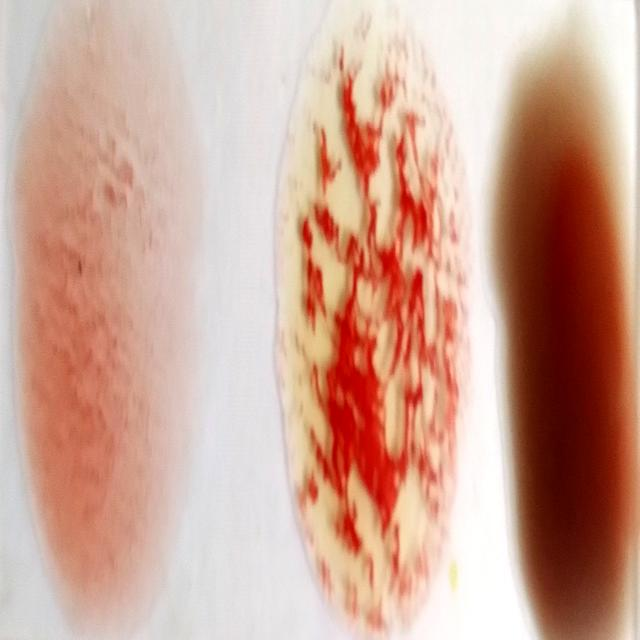B: (286, 34, 454, 621)
D: (26, 44, 176, 569)
